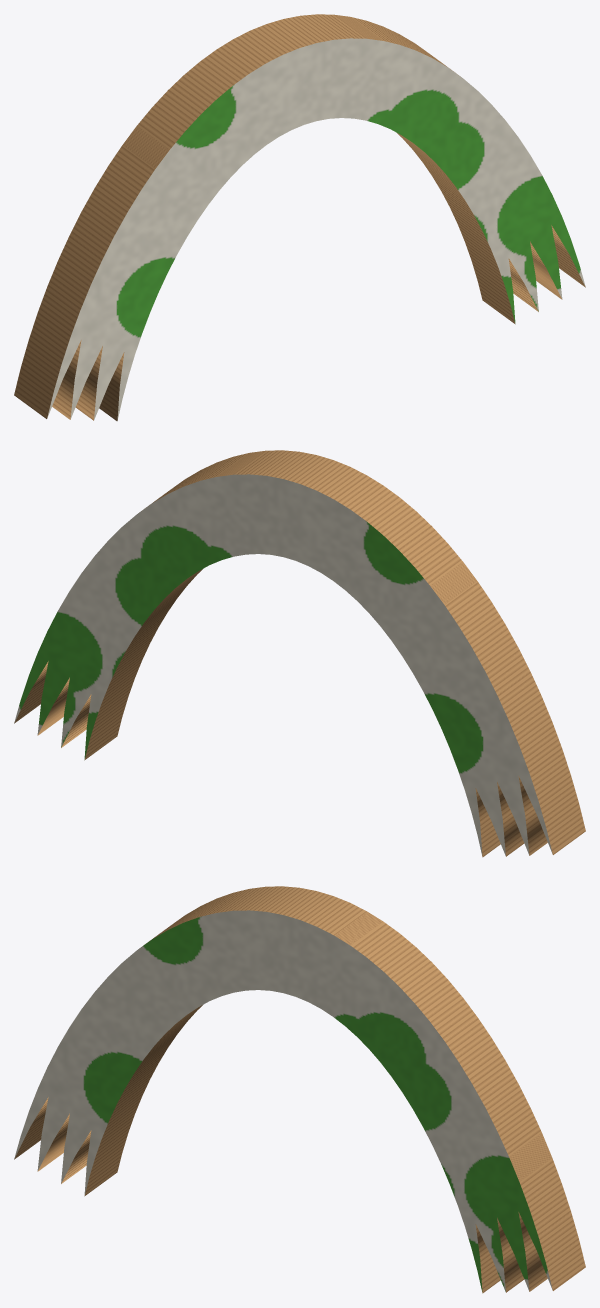
The model's file is goal_ring_top.obj.
3 renders of one model, top to bottom at view 1: azimuth 30°, elevation 25°; view 2: azimuth 150°, elevation 25°; view 3: azimuth 330°, elevation 25°, orthographic.
Visible parts, largest first — view 1: goal_ring_top; view 2: goal_ring_top; view 3: goal_ring_top.
Boxes of the visible parts, <box> form: goal_ring_top: <box>14,14,585,421</box>; goal_ring_top: <box>14,450,585,857</box>; goal_ring_top: <box>14,886,585,1293</box>.
Bounding box in the file's own units: 2.46 × 1.44 × 0.26.
Materials: 1 (1 with a texture image).
